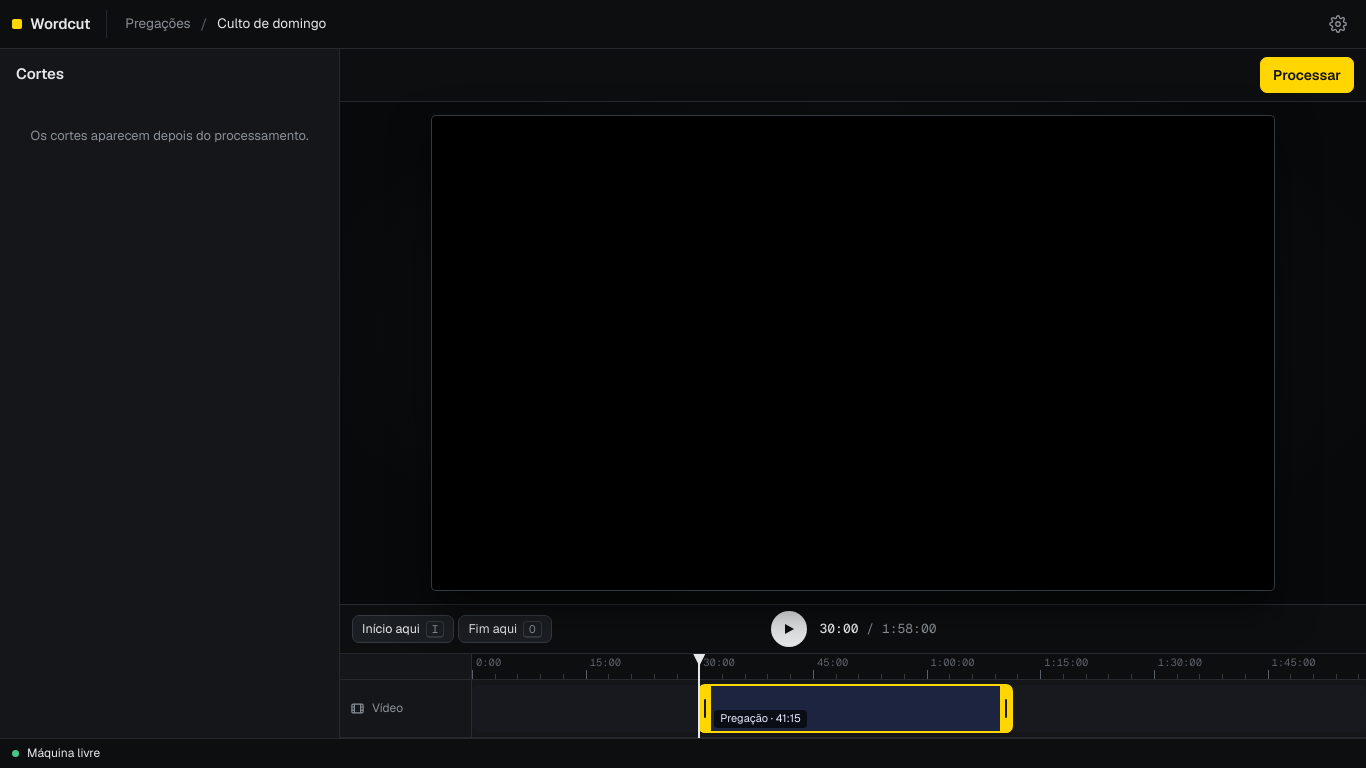
Test: shows why the borders were not saved and puts them back: {"status":400,"body":{"error":{"code":"invalid_argument","message":"As bordas precisam ficar dentro da
Step 1. Press the mouse on the slider named "Início da pregação" → (705, 708), box [699,684,711,732]
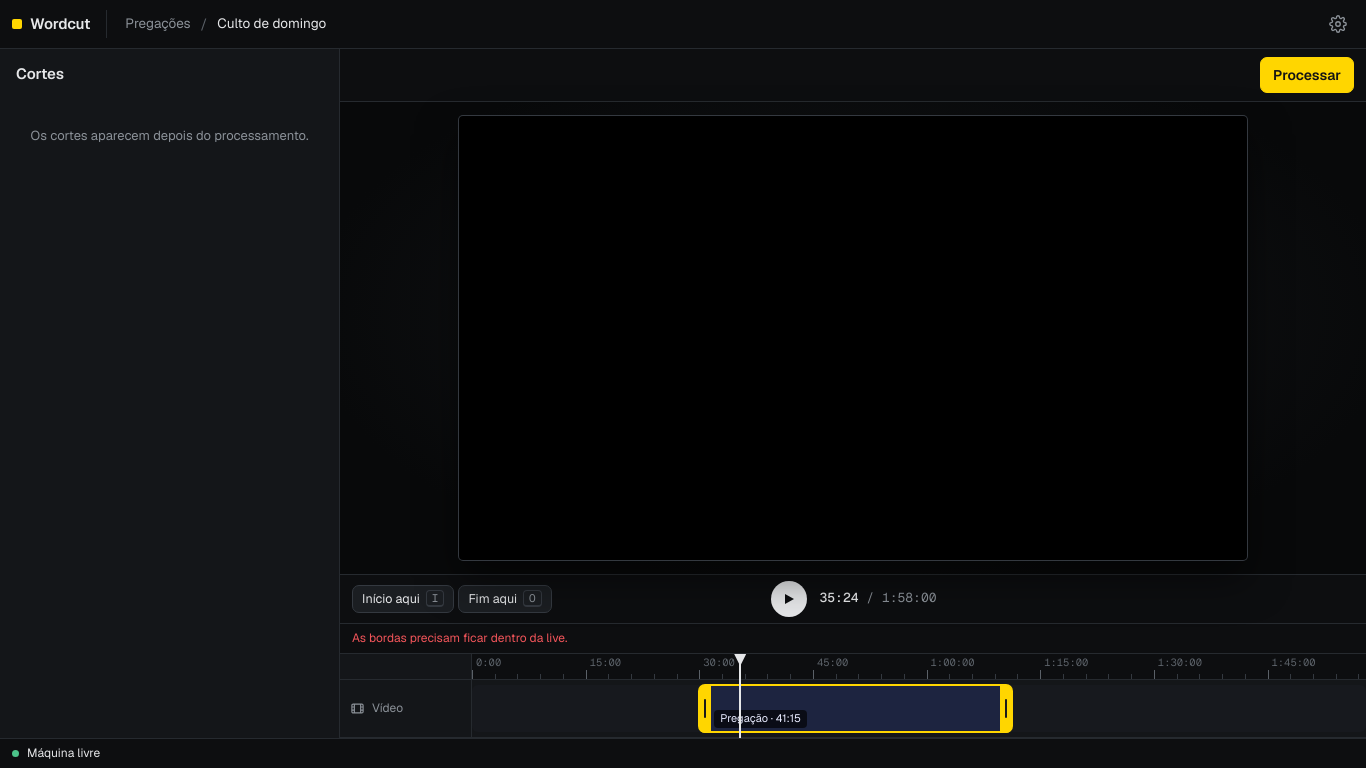
Expected: the text "As bordas precisam ficar dentro da live." is shown, [340,623,1365,653]
